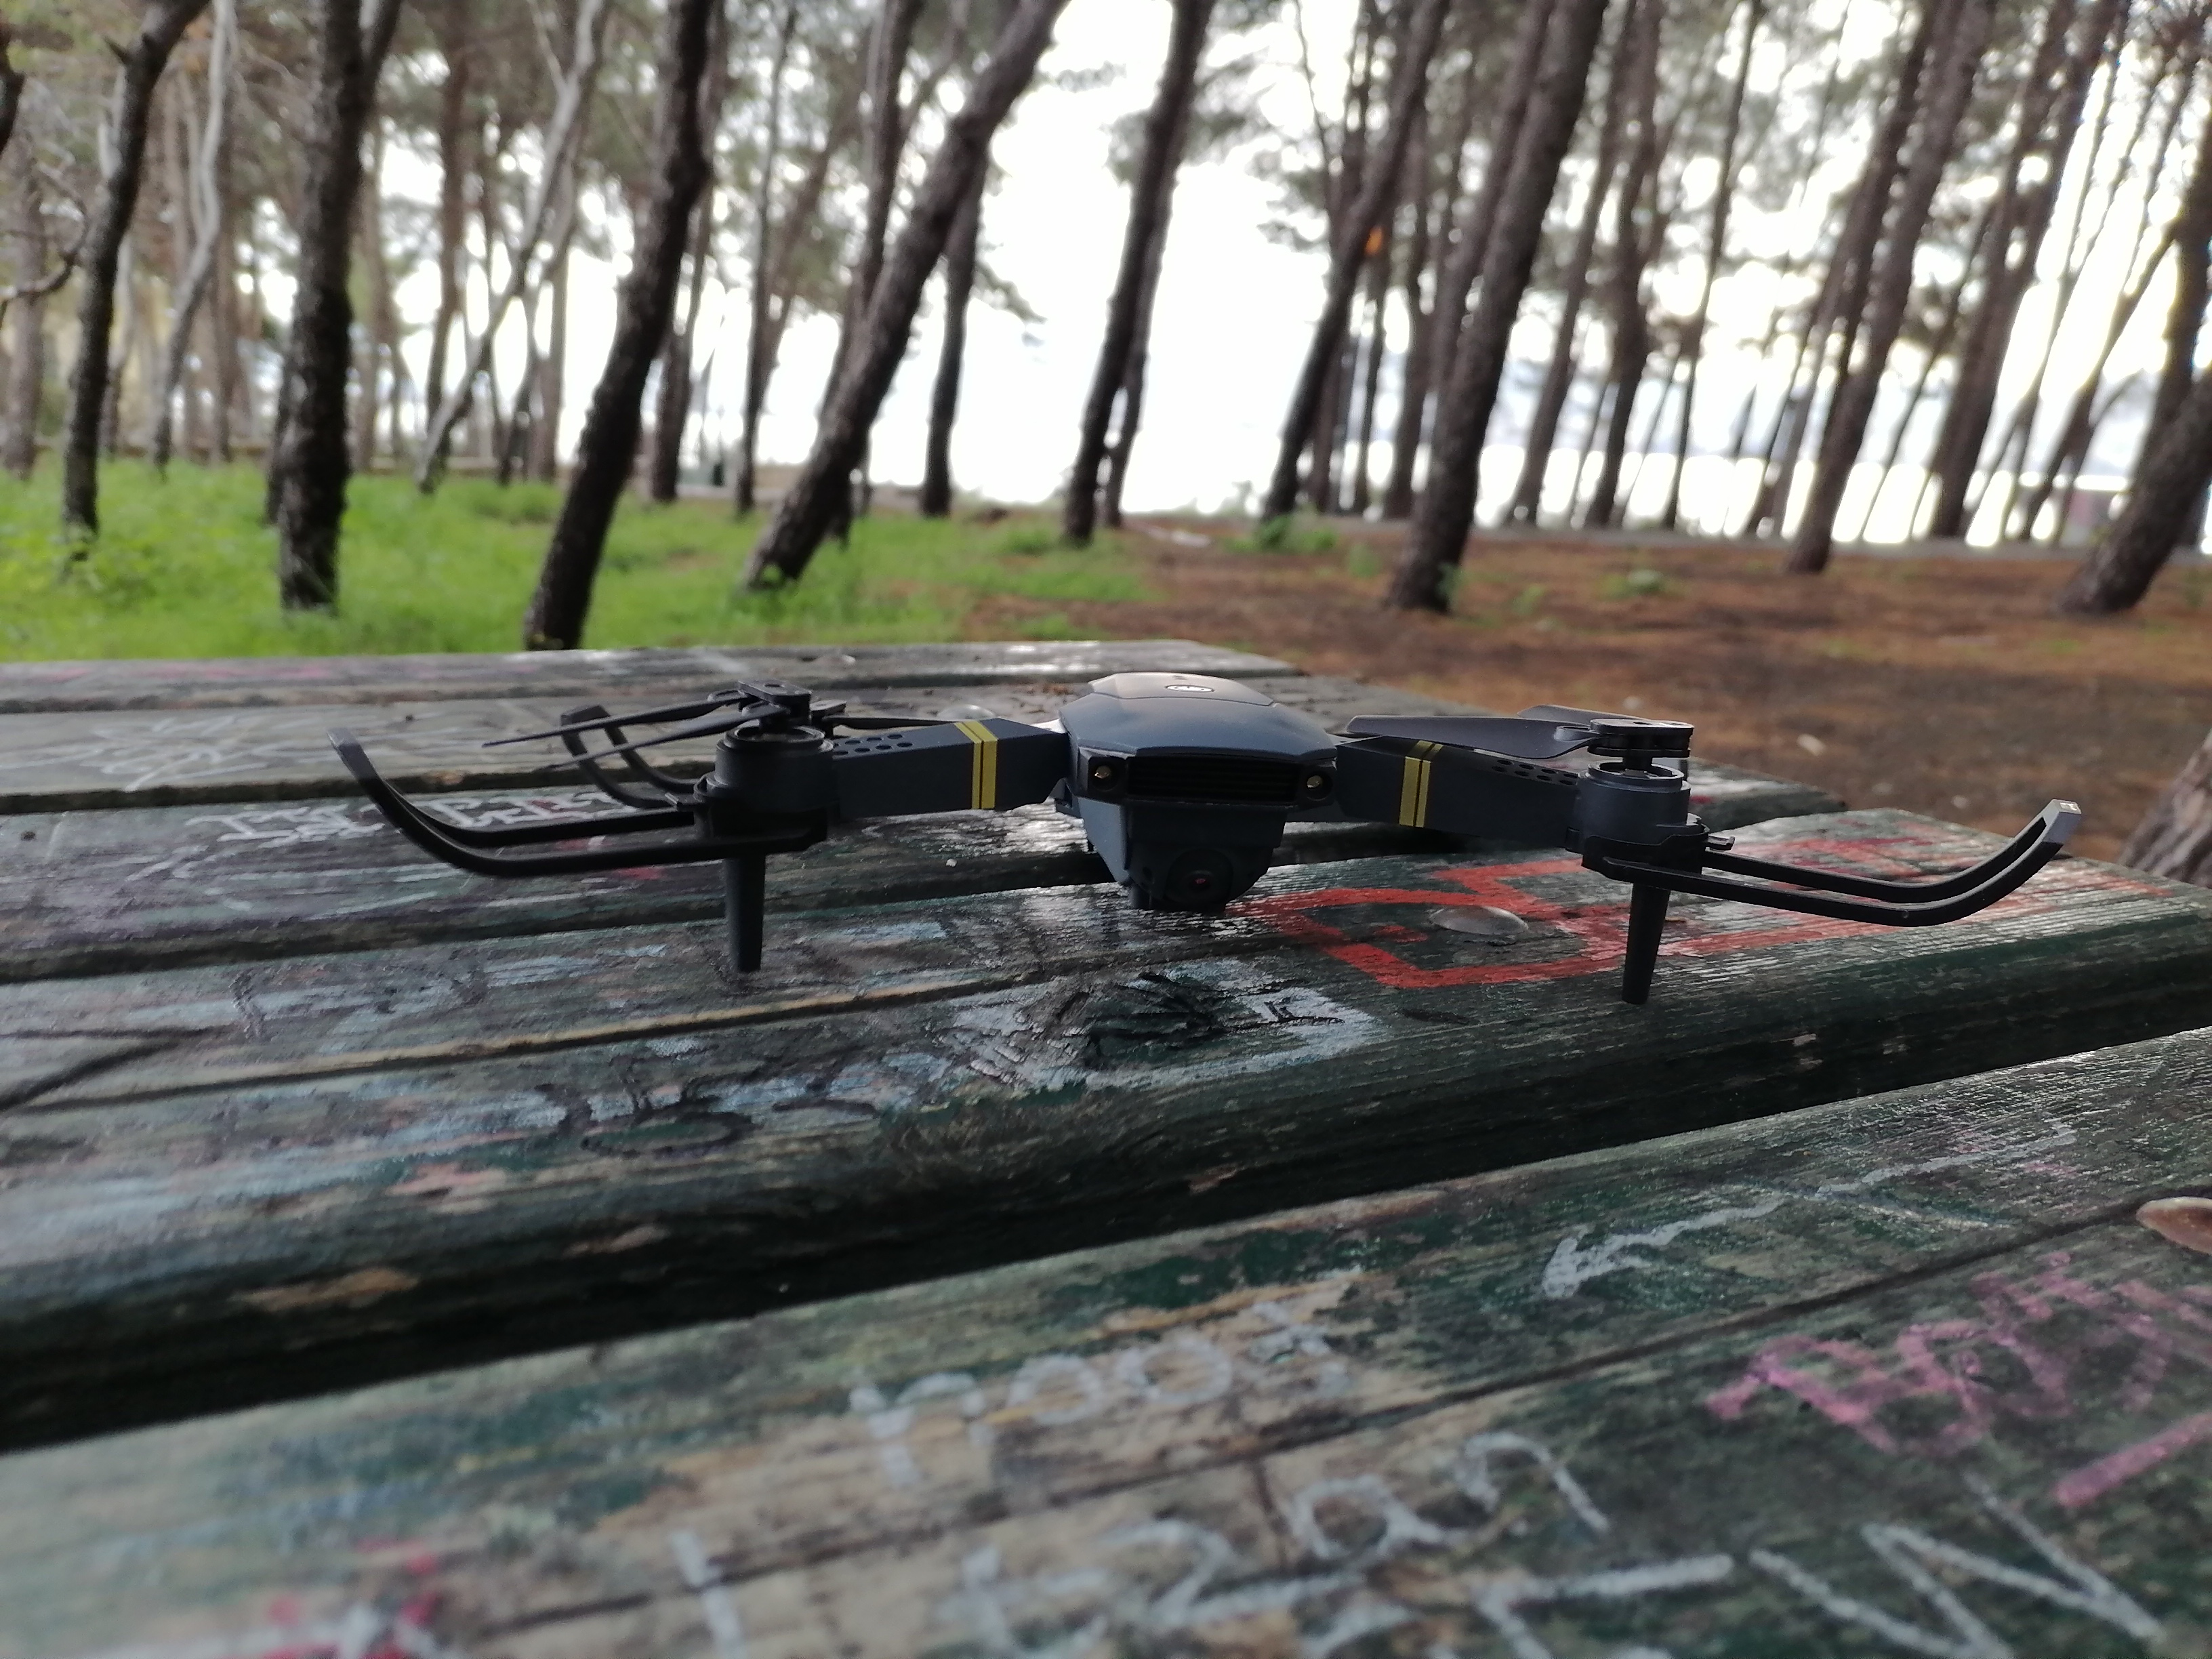drone: (301, 636, 2127, 1098)
